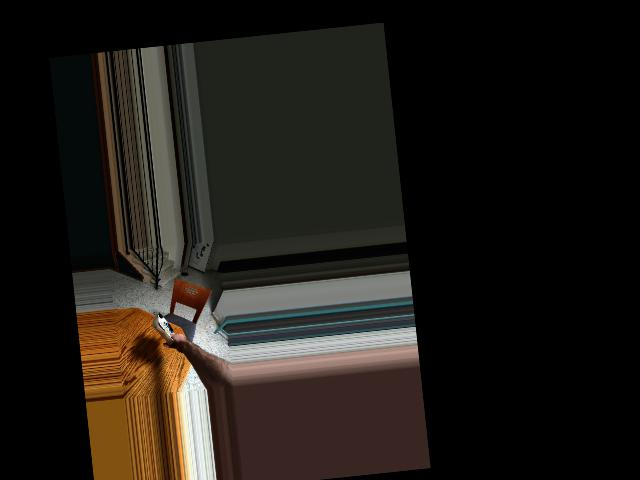cheese: (150, 310, 178, 347)
